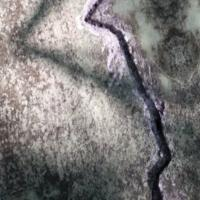crack: (80, 0, 187, 199)
